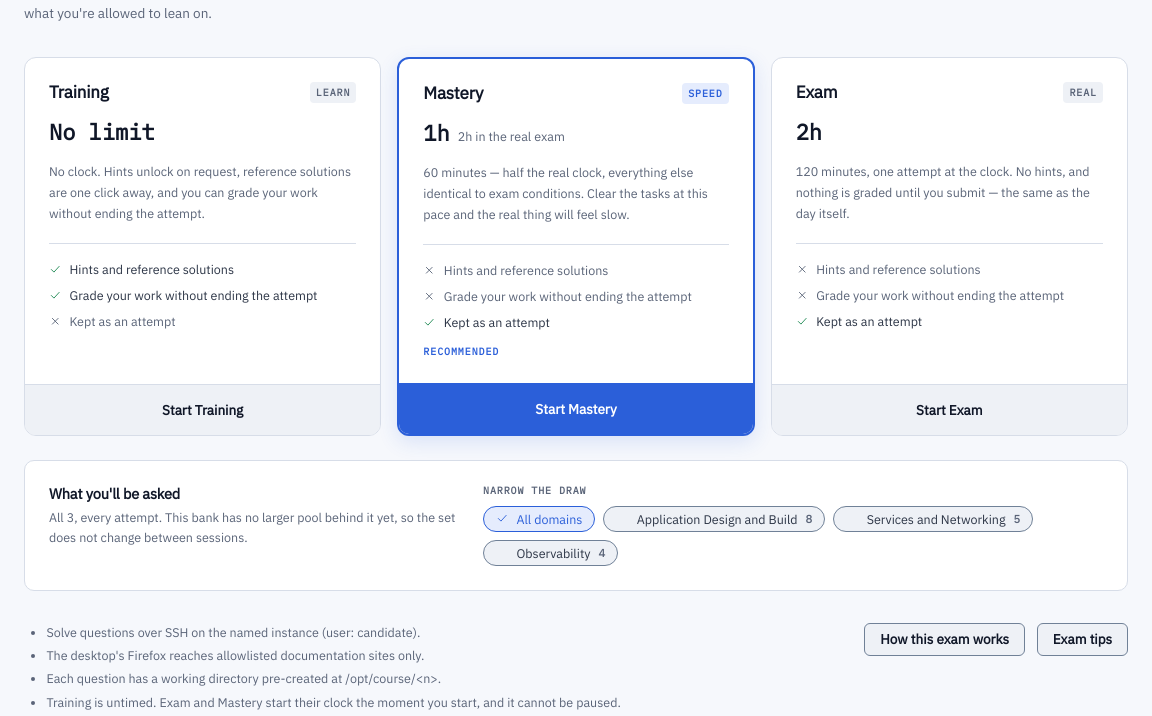
the exam tips opener › opens the bank's own tips when it does
(page scrolled)
Step 1. Click the button "Exam tips" → [1082, 639], box [1037,622,1128,656]
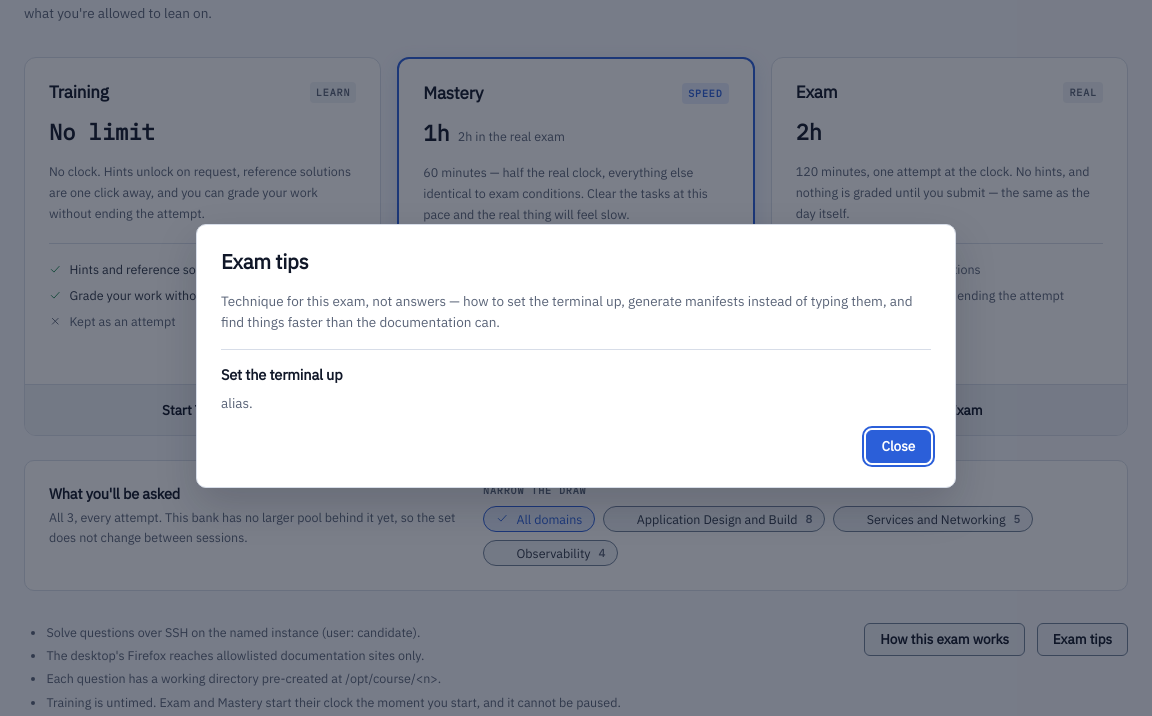
Now the dialog "Exam tips" is shown, box [196,224,956,488]
Now the heading "Set the terminal up" is shown, box [221,365,342,384]
